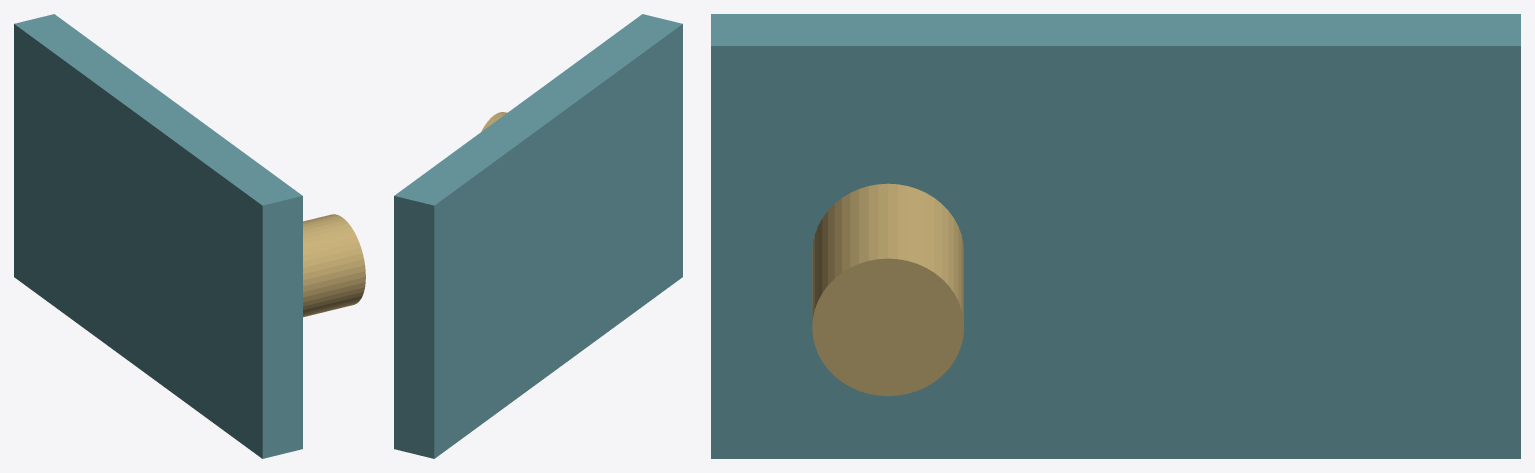
Rendered from axis-l.glb.
3 views of the same model, side by side, from view 1: azimuth 30°, elevation 25°; view 2: azimuth 150°, elevation 25°; view 3: azimuth 270°, elevation 25° (orthographic). The views are drawn at different scales.
Visible parts, largest first — view 1: Pin-carrier-L-1, Pin-L-1; view 2: Pin-carrier-L-1; view 3: Pin-carrier-L-1, Pin-L-1.
Boxes of the visible parts, box(x1,y1,x2,y2) form: Pin-carrier-L-1: box(14, 14, 302, 458); Pin-L-1: box(303, 214, 365, 317); Pin-carrier-L-1: box(394, 14, 682, 458); Pin-carrier-L-1: box(711, 14, 1520, 458); Pin-L-1: box(812, 183, 963, 396).
Bounding box in the file's own units: 0.01 × 0.018 × 0.032.
